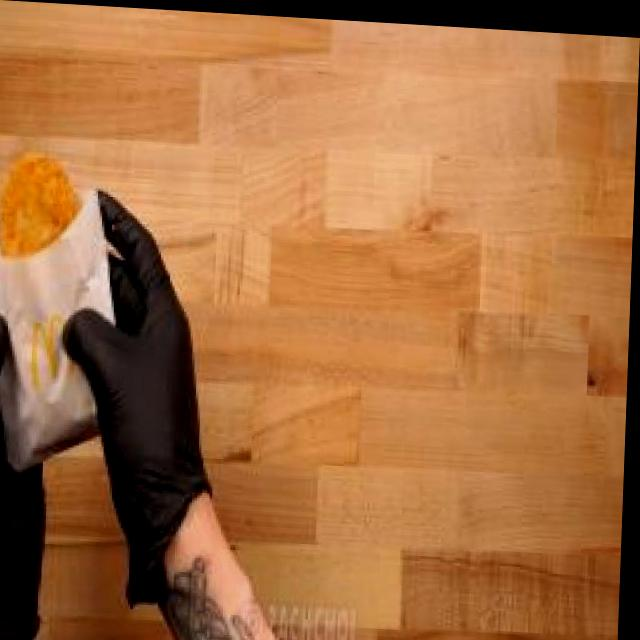Hashbrown: (0, 130, 106, 288)
